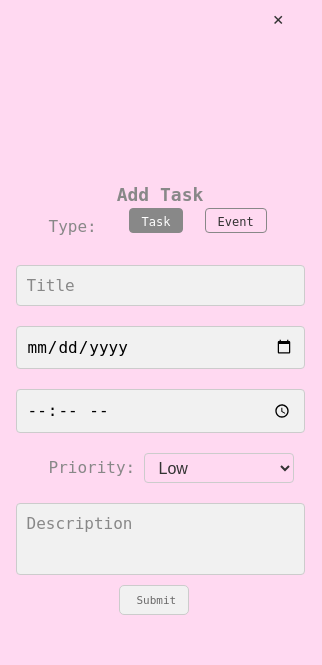
Test: AddTask Component › switches label between Task and Event
Click the button "Event".
click(236, 221)  # box [205,208,267,233]
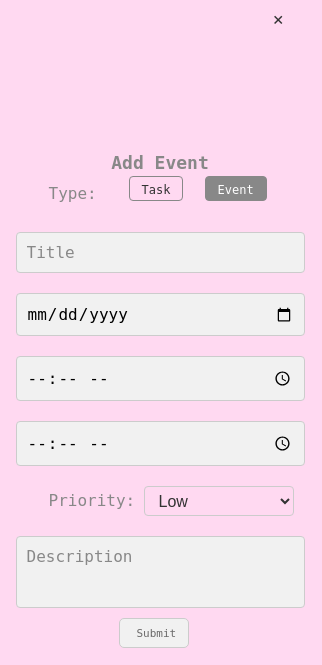
expect the heading "Add Event" is shown: met, box [111,149,209,176]
Click the button "Task".
click(156, 188)  # box [128,176,183,201]
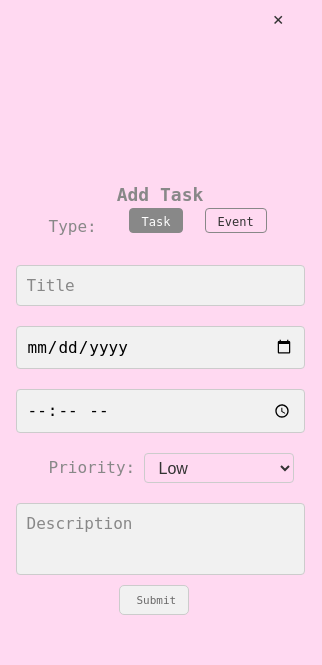
expect the heading "Add Task" is shown: met, box [117,181,203,208]
